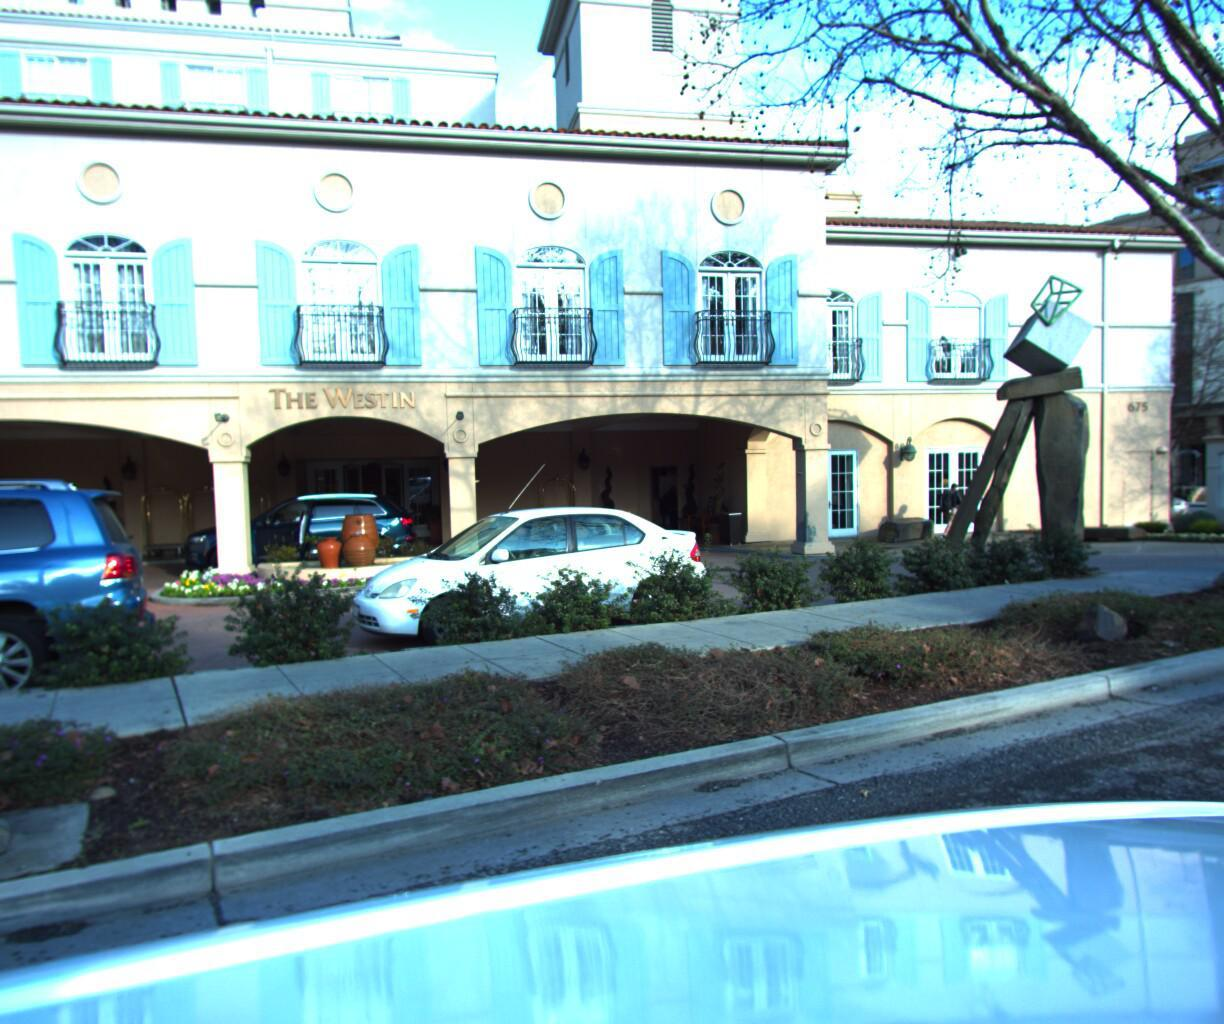car: (331, 494, 736, 669), (0, 474, 159, 823), (165, 486, 427, 584), (1062, 474, 1207, 519)
